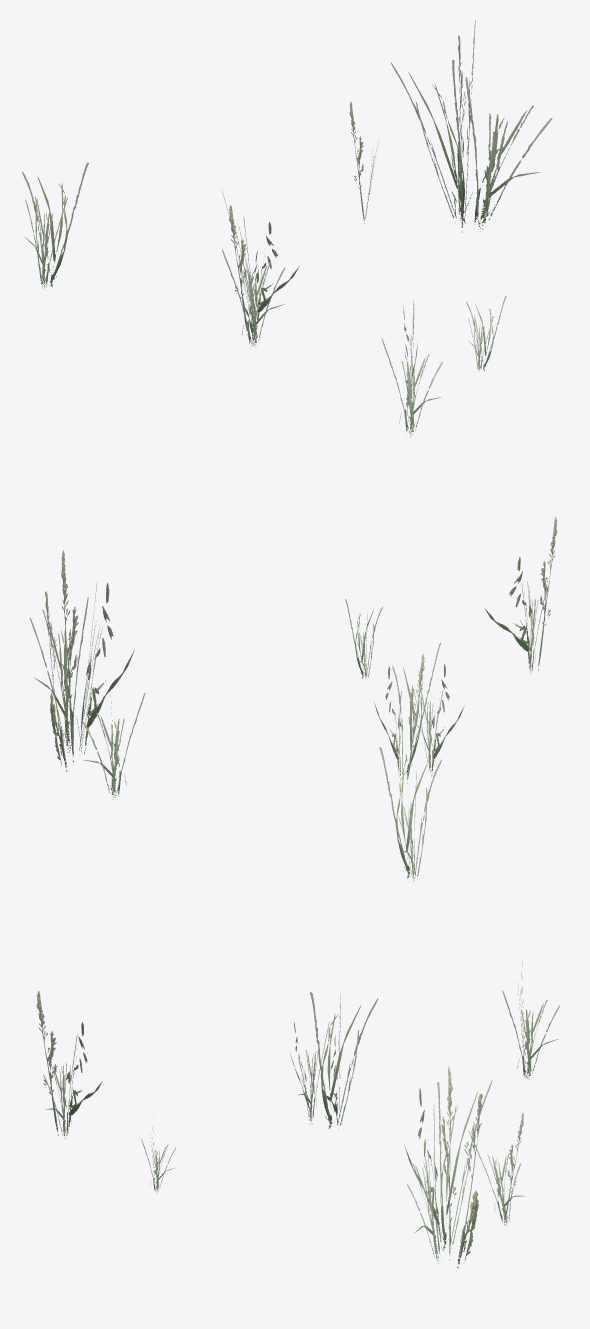
The model's file is urbangrnfrnds_01.FBX.
The picture shows the model from 3 angles, top to bottom: view 1: azimuth 30°, elevation 25°; view 2: azimuth 150°, elevation 25°; view 3: azimuth 270°, elevation 25°; orthographic projection. The views are drawn at different scales.
Parts seen in each view (by area): view 1: urbangrnfrnds_01; view 2: urbangrnfrnds_01; view 3: urbangrnfrnds_01.
Boxes of the visible parts, x1,y1,x2,y2 form: urbangrnfrnds_01: (22,20,552,437); urbangrnfrnds_01: (30,516,557,882); urbangrnfrnds_01: (36,961,560,1268).
Size of the model in its own units: 1.13 by 1.17 by 0.5913.
Materials: 1 (1 with a texture image).
